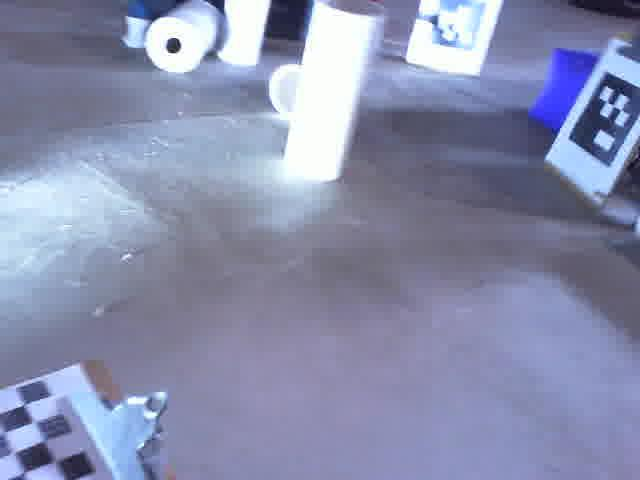coral: (282, 0, 393, 200), (209, 0, 277, 76), (261, 53, 309, 129)
